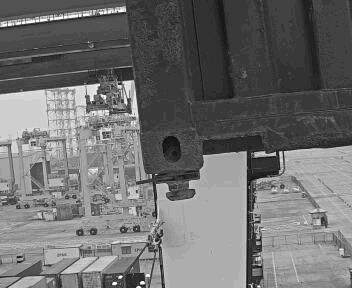twist_lock_1: (150, 155, 206, 210)
